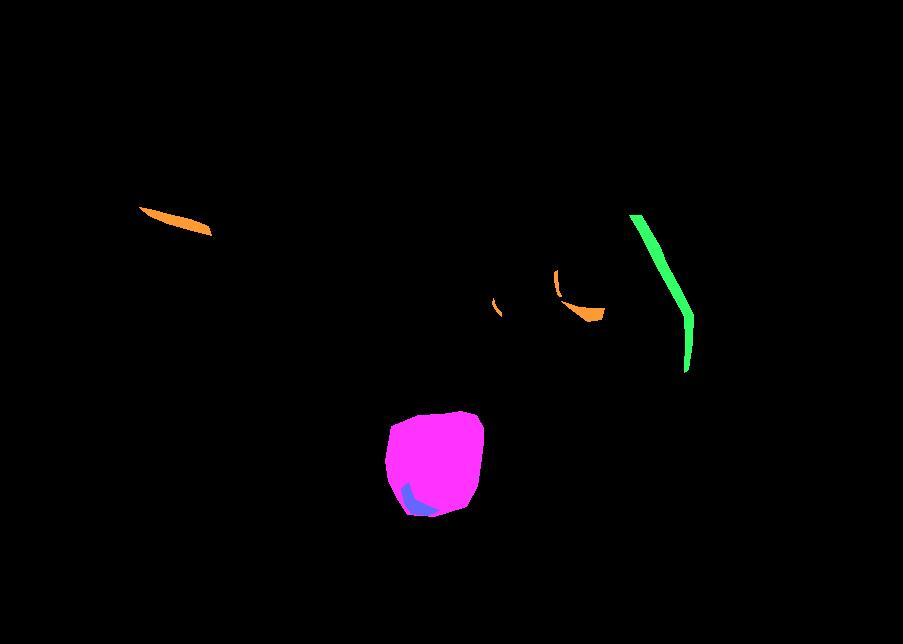Broken part: (629, 215, 693, 372)
Dent: (385, 411, 483, 516)
Paint chip: (139, 207, 211, 235), (561, 301, 604, 321), (554, 270, 561, 296), (492, 298, 501, 316)
Scratch: (401, 482, 439, 515)
